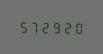five: (17, 19, 27, 33)
nine: (51, 19, 61, 34)
seven: (28, 19, 38, 33)
two: (40, 19, 50, 33), (62, 20, 72, 34)
zero: (73, 20, 83, 34)
